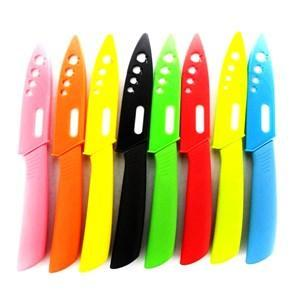faca: (110, 33, 152, 268), (79, 34, 119, 271), (49, 36, 86, 271), (210, 32, 246, 263), (145, 36, 180, 267), (179, 34, 211, 263), (18, 47, 51, 269), (245, 36, 275, 263)
